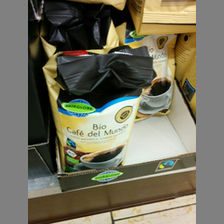coffee: (43, 44, 153, 172)
